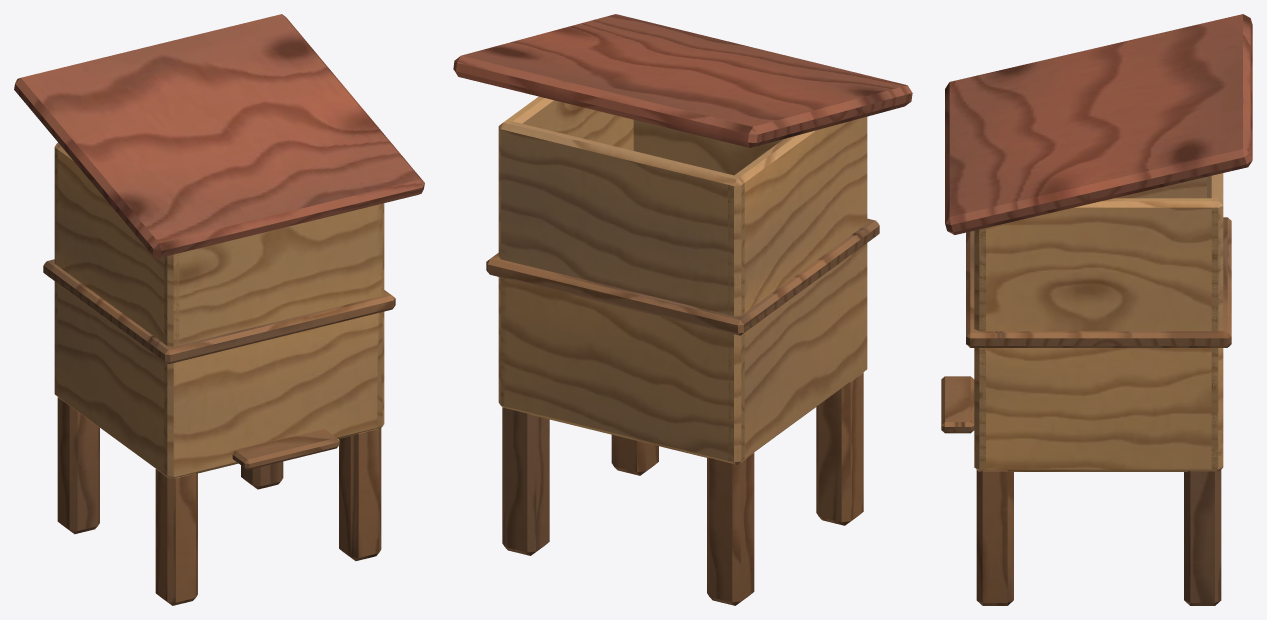
File: ari_kovani.glb
The picture shows the model from 3 angles, left to right: view 1: azimuth 30°, elevation 25°; view 2: azimuth 150°, elevation 25°; view 3: azimuth 270°, elevation 25°; orthographic projection. The views are drawn at different scales.
Parts seen in each view (by area): view 1: ari_kovani; view 2: ari_kovani; view 3: ari_kovani.
Part boxes in pixels (bbox=[...]): ari_kovani: bbox=[14, 14, 424, 605]; ari_kovani: bbox=[453, 14, 912, 605]; ari_kovani: bbox=[941, 14, 1252, 605].
Size of the model in its own units: 0.8 by 1.25 by 0.7507.
1 material, 1 textured.
